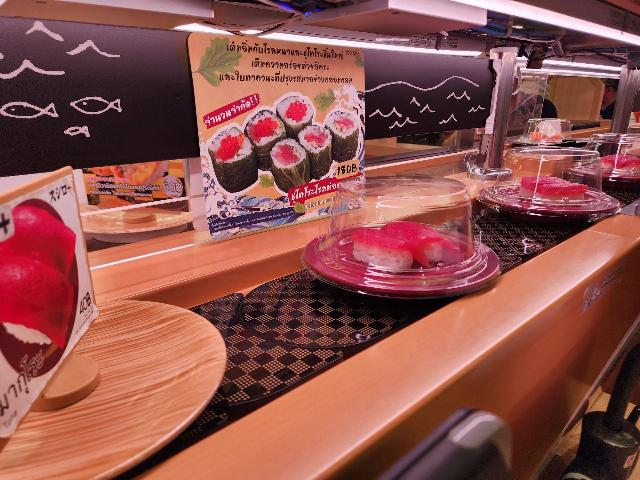janred: (329, 228, 515, 296), (481, 175, 620, 228), (579, 143, 640, 181)
